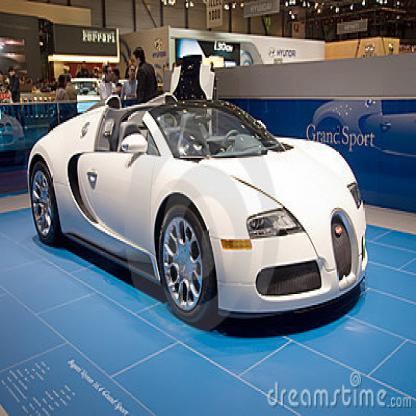Vehicle: (27, 94, 370, 322)
